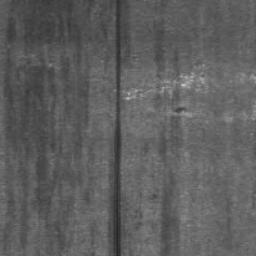Scratches: (105, 0, 122, 256)
